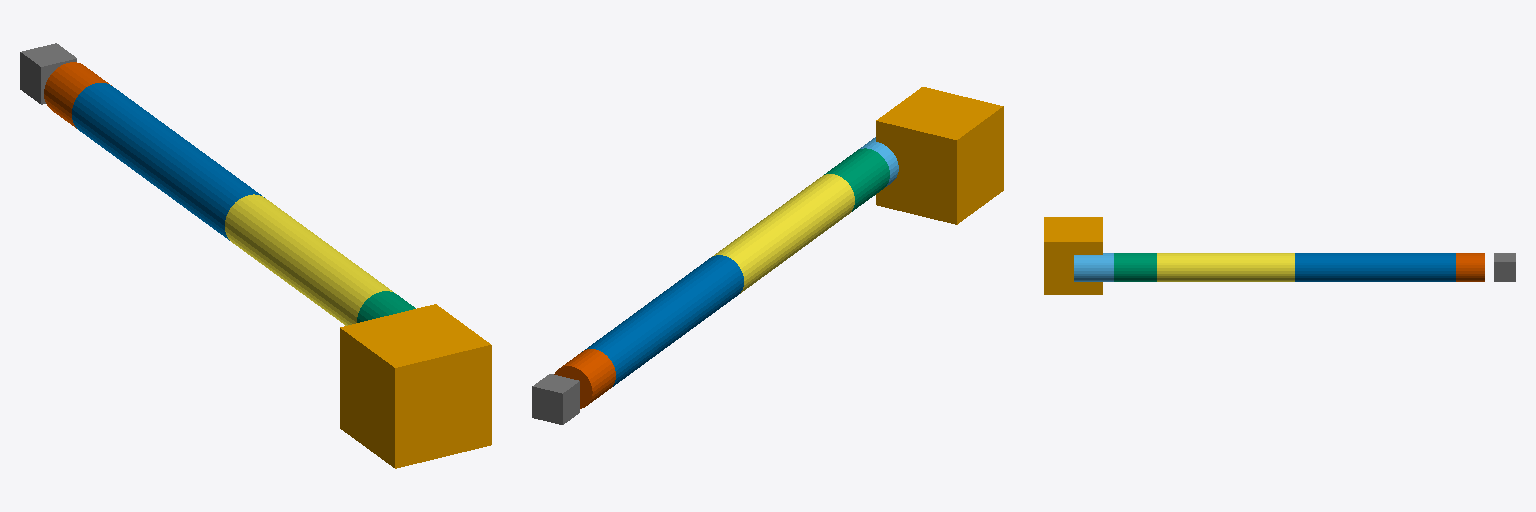
URDF robot description (robot_brazo):
<?xml version="1.0" encoding="utf-8"?>

<robot name="robot_brazo">
<!-->gazebo
    <plugin filename="libgazebo_ros_control.so" name="ros_control">
      <robotNamespace>/</robotNamespace>
      <robotSimType>gazebo_ros_control/DefaultRobotHWSim</robotSimType>
    </plugin>
    <plugin name="gazebo_ros_power_monitor_controller" filename="libgazebo_ros_power_monitor.so">
      <alwaysOn>true</alwaysOn>
      <updateRate>1.0</updateRate>
      <timeout>5</timeout>
      <powerStateTopic>power_state</powerStateTopic>
      <powerStateRate>10.0</powerStateRate>
      <fullChargeCapacity>87.78</fullChargeCapacity>     
      <dischargeRate>-474</dischargeRate>
      <chargeRate>525</chargeRate>
      <dischargeVoltage>15.52</dischargeVoltage>
      <chargeVoltage>16.41</chargeVoltage>
    </plugin>
  </gazebo-->

  <!-- measured from model -->
  <!--property name="shoulder_height" value="0.089159" /-->
  <!--property name="shoulder_offset" value="0.13585" /-->
  <!-- shoulder_offset - elbow_offset + wrist_1_length = 0.10915 -->
  <!--property name="upper_arm_length" value="0.42500" /-->
  <!--property name="elbow_offset" value="0.1197" /-->
  <!-- CAD measured -->
  <!--property name="forearm_length" value="0.39225" /-->
  <!--property name="wrist_1_length" value="0.093" /-->
  <!-- CAD measured -->
  <!--property name="wrist_2_length" value="0.09465" /-->
  <!-- In CAD this distance is 0.930, but in the spec it is 0.09465 -->
  <!--property name="wrist_3_length" value="0.0823" /-->
  <!-- manually measured -->
    <static> false </static>
    <link name="base_link">
        <visual>
        <geometry>
            <box size="0.8 0.8 0.8"/>
        </geometry>
        <origin rpy="0 -1.5708 -1.5708" xyz="0 0 0"/>
        </visual>
        <collision>
        <origin rpy="0 -1.5708 -1.5708" xyz="0 0 0" />
        <geometry>
            <box size="0.8 0.8 0.8"/>
        </geometry>
        </collision>
        <inertial>
         <mass value="1.05" />
         <inertia ixx="6.905" ixy="0.82" ixz="0.0" iyy="3.99" iyz="0.0" izz="6.58" />
        </inertial>
    </link>
    <gazebo reference="base_link">
        <material>Gazebo/Blue</material>
    </gazebo>

    <joint name="base-0_joint" type="revolute">
        <parent link="base_link"/>
        <child link="0_link"/>
        <origin rpy="0 -1.5708 0" xyz="0.375 0 0"/>
        <axis xyz="1 0 0" />
        <limit effort="300" velocity="0.1" lower="-1.4" upper="1.4"/>
        <dynamics damping="50" friction="1"/>
    </joint>

    <link name="0_link">
        <visual>
        <geometry>
            <cylinder length="0.55" radius="0.2"/>
        </geometry>
        <origin rpy="-1.5708 0 0" xyz="0 0.275 0"/>
        </visual>
        <collision>
        <geometry>
            <cylinder length="0.55" radius="0.2"/>
        </geometry>
        <origin rpy="-1.5708 0 0" xyz="0 0.275 0"/>
        </collision>
        <inertial>
         <mass value="1.05" />
         <inertia ixx="6.905" ixy="0.82" ixz="0.0" iyy="3.99" iyz="0.0" izz="6.58" />
        </inertial>
    </link>
    <gazebo reference="0_link">
        <material>Gazebo/Black</material>
    </gazebo>

    <joint name="0-1_joint" type="revolute">
        <parent link="0_link"/>
        <child link="1_link"/>
        <origin rpy="0 0 0" xyz="0 0.55 0" />
        <axis xyz="1 0 0" />
        <limit effort="300" velocity="0.1" lower="-1" upper="1"/>
        <dynamics damping="50" friction="1"/>
    </joint>

    <link name="1_link">
        <visual>
        <geometry>
            <cylinder length="0.6" radius="0.2"/>
        </geometry>
        <origin rpy="1.5708 0 0" xyz="0 0.3 0"/>
        
        </visual>
        <collision>
        <geometry>
            <cylinder length="0.6" radius="0.2"/>
        </geometry>
        <origin rpy="1.5708 0 0" xyz="0 0.3 0"/>
        </collision>
        <inertial>
         <mass value="1.553" />
         <inertia ixx="19.69" ixy="2.25" ixz="0.40" iyy="6.09" iyz="-1.97" izz="19.58" />
        </inertial>
    </link>
    <gazebo reference="1_link">
        <material>Gazebo/White</material>
    </gazebo>

    <joint name="1-2_joint" type="revolute">
        <parent link="1_link"/>
        <child link="2_link"/>
        <origin rpy="0 0 0" xyz="0 0.6 0"/>
        <axis xyz="1 0 0" />
        <limit effort="300" velocity="0.1" lower="-1.15" upper="1.15"/>
        <dynamics damping="50" friction="1"/>
    </joint>

    <link name="2_link">
        <visual>
        <geometry>
            <cylinder length="1.9" radius="0.2"/>
        </geometry>
        <origin rpy="1.5708 0 0" xyz="0 0.95 0"/>
        
        </visual>
        <collision>
        <geometry>
            <cylinder length="1.9" radius="0.2"/>
        </geometry>
        <origin rpy="1.5708 0 0" xyz="0 0.95 0"/>
        </collision>
        <inertial>
         <mass value="3.995" />
         <inertia ixx="89.92" ixy="61.25" ixz="10.30" iyy="71.41" iyz="-12.32" izz="141.58" />
        </inertial>
    </link>
    <gazebo reference="2_link">
        <material>Gazebo/Grey</material>
    </gazebo>


    <joint name="2-4_joint" type="revolute">
        <parent link="2_link"/>
        <child link="4_link"/>
        <origin rpy="0 0 0" xyz="0 1.9 0"/>
        <axis xyz="1 0 0" />
        <limit effort="300" velocity="0.1" lower="-1.1" upper="1.85"/>
        <dynamics damping="50" friction="1"/> 
    </joint>

    <link name="4_link">
        <visual>
        <geometry>
            <cylinder length="2.2" radius="0.2"/>
        </geometry>
        <origin rpy="1.5708 0 0" xyz="0 1.1 0"/>
        <material name="blue" />
        </visual>
        <collision>
        <geometry>
            <cylinder length="2.2" radius="0.2"/>
        </geometry>
        <origin rpy="1.5708 0 0" xyz="0 1.1 0"/>
        </collision>
        <inertial>
         <mass value="4.673" />
         <inertia ixx="196.77" ixy="18.68" ixz="4.70" iyy="33.48" iyz="-41.77" izz="188.74" />
        </inertial>
    </link>
    <gazebo reference="4_link">
        <material>Gazebo/White</material>
    </gazebo>

    <joint name="4-5_joint" type="revolute">
        <parent link="4_link"/>
        <child link="5_link"/>
        <origin rpy="0 0 0" xyz="0 2.2 0"/>
        <axis xyz="1 0 0" />
        <limit effort="300" velocity="0.1" lower="-0.85" upper="0.85"/>
        <dynamics damping="50" friction="1"/>
    </joint>

    <link name="5_link">
        <visual>
        <geometry>
            <cylinder length="0.4" radius="0.2"/>
        </geometry>
        <origin rpy="1.5708 0 0" xyz="0 0.2 0"/>
        
        </visual>
        <collision>
        <geometry>
            <cylinder length="0.4" radius="0.2"/>
        </geometry>
        <origin rpy="1.5708 0 0" xyz="0 0.2 0"/>
        </collision>
        <inertial>
         <mass value="0.875" />
         <inertia ixx="5.27" ixy="-22.62" ixz="-15.65" iyy="2.96" iyz="-0.448" izz="4.72" />
        </inertial>
    </link>
    <gazebo reference="5_link">
        <material>Gazebo/Black</material>
    </gazebo>

    <joint name="5-6_joint" type="revolute">
        <parent link="5_link"/>
        <child link="mesh_6_link"/>
        <origin rpy="0 0 0" xyz="0 0.4 0"/>
        <axis xyz="1 0 0" />
        <limit effort="300" velocity="0.1" lower="-0.85" upper="0.85"/>
        <dynamics damping="50" friction="1"/>
    </joint>
    

    <link name="mesh_6_link">
        <inertial>
            <origin rpy="0 0 0" xyz="0 0.275 0"/>
            <mass value="1.17563" />
            <inertia ixx="0.3615" ixy="0" ixz="-0.00681" iyy="0.4962" iyz="-0" izz="0.49" />
        </inertial>

        <visual>
            <origin rpy="0 0 0" xyz="0 0.275 0"/>
            <geometry>
                <box size="0.3 0.3 0.3"/>
                <mesh
                filename="package://lab2/manorobot/manoinv.stl" 
                scale= "2 2 2" />
            </geometry>
            <material name="clear_color">
                    <color rgba="0.5 0.5 0.5 1.0"/>
            </material>
        </visual>
        <collision>
            <origin rpy="0 0 0" xyz="0 0.275 0"/>
            <geometry>
                <box size="0.8 0.8 0.8"/>
                <!-->mesh filename="package://lab2/manorobot/manoinv.stl"
                scale= "2 2 2" /-->
            </geometry>
        </collision>
   </link>
   
       
    <!-- Transmissions-->
    <transmission name="tran1">
        <type>transmission_interface/SimpleTransmission</type>
        <joint name="base-0_joint">
        <hardwareInterface>hardware_interface/EffortJointInterface</hardwareInterface>
        </joint>
        <actuator name="motor1">
        <hardwareInterface>hardware_interface/EffortJointInterface</hardwareInterface>
        <mechanicalReduction>1</mechanicalReduction>
        </actuator>
    </transmission>

    <transmission name="tran2">
        <type>transmission_interface/SimpleTransmission</type>
        <joint name="0-1_joint">
        <hardwareInterface>hardware_interface/EffortJointInterface</hardwareInterface>
        </joint>
        <actuator name="motor2">
        <hardwareInterface>hardware_interface/EffortJointInterface</hardwareInterface>
        <mechanicalReduction>1</mechanicalReduction>
        </actuator>
    </transmission>

    <transmission name="tran3">
        <type>transmission_interface/SimpleTransmission</type>
        <joint name="1-2_joint">
        <hardwareInterface>hardware_interface/EffortJointInterface</hardwareInterface>
        </joint>
        <actuator name="motor3">
        <hardwareInterface>hardware_interface/EffortJointInterface</hardwareInterface>
        <mechanicalReduction>1</mechanicalReduction>
        </actuator>
    </transmission>

    <transmission name="tran4">
        <type>transmission_interface/SimpleTransmission</type>
        <joint name="2-4_joint">
        <hardwareInterface>hardware_interface/EffortJointInterface</hardwareInterface>
        </joint>
        <actuator name="motor4">
        <hardwareInterface>hardware_interface/EffortJointInterface</hardwareInterface>
        <mechanicalReduction>1</mechanicalReduction>
        </actuator>
    </transmission>

    <transmission name="tran5">
        <type>transmission_interface/SimpleTransmission</type>
        <joint name="4-5_joint">
        <hardwareInterface>hardware_interface/EffortJointInterface</hardwareInterface>
        </joint>
        <actuator name="motor5">
        <hardwareInterface>hardware_interface/EffortJointInterface</hardwareInterface>
        <mechanicalReduction>1</mechanicalReduction>
        </actuator>
    </transmission>

    <transmission name="tran6">
        <type>transmission_interface/SimpleTransmission</type>
        <joint name="5-6_joint">
        <hardwareInterface>hardware_interface/EffortJointInterface</hardwareInterface>
        </joint>
        <actuator name="motor6">
        <hardwareInterface>hardware_interface/EffortJointInterface</hardwareInterface>
        <mechanicalReduction>1</mechanicalReduction>
        </actuator>
    </transmission>
    
    <gazebo reference="base-0_joint">
        <selfCollide>true</selfCollide>
    </gazebo>
    <gazebo reference="0-1_joint">
        <selfCollide>true</selfCollide>
    </gazebo>
    <gazebo reference="1-2_joint">
        <selfCollide>true</selfCollide>
    </gazebo>
    <gazebo reference="2-4_joint">
        <selfCollide>true</selfCollide>
    </gazebo>
    <gazebo reference="4-5_joint">
        <selfCollide>true</selfCollide>
    </gazebo>
    <gazebo reference="5-6_joint">
        <selfCollide>true</selfCollide>
    </gazebo>
    
        <!-- ROS base_link to UR 'Base' Coordinates transform -->
    <link name="base1"/>
    <joint name="base_link-base_fixed_joint" type="fixed">
        <!-- NOTE: this rotation is only needed as long as base_link itself is
                    not corrected wrt the real robot (ie: rotated over 180
                    degrees)
        -->
        <origin rpy="0 0 1.5708" xyz="0 0 0"/>
        <parent link="base_link"/>
        <child link="base1"/>
    </joint>
    
    <!-- <link name="world"/> -->
    <link name="world">
        <inertial>
        <mass value="0.0000001"/>
        <origin rpy="0 0 0" xyz="0.0 0.0 0.0"/>
        <inertia ixx="0.0000001" ixy="0.0" ixz="0.0" iyy="0.0000001" iyz="0.0" izz="0.0000001"/>
        </inertial>
    </link>
        
    <joint name="world_joint" type="fixed">
        <parent link="world"/>
        <child link="base_link"/>
        <origin rpy="0.0 0.0 0.0" xyz="0.0 0.0 0.0"/>
    </joint>


</robot>

--- Render facts (derived) ---
3 views of the same robot in one strip: view 1: azimuth 30°, elevation 25°; view 2: azimuth 150°, elevation 25°; view 3: azimuth 270°, elevation 25° (orthographic).
Robot: robot_brazo — 9 links, 8 joints (6 revolute, 2 fixed); root link world; default pose: every joint at zero.
Links seen in each view (by area): view 1: base_link, 4_link, 2_link, 5_link, mesh_6_link, 1_link; view 2: base_link, 4_link, 2_link, mesh_6_link, 1_link, 5_link, 0_link; view 3: 4_link, 2_link, base_link, 1_link, 0_link, 5_link, mesh_6_link.
Boxes of the visible links, box(x1,y1,x2,y2) form: base_link: box(340, 304, 491, 468); 4_link: box(72, 83, 264, 240); 2_link: box(225, 194, 395, 325); 5_link: box(44, 62, 111, 128); mesh_6_link: box(20, 43, 76, 104); 1_link: box(357, 291, 415, 322); base_link: box(876, 87, 1003, 224); 4_link: box(582, 255, 743, 386); 2_link: box(712, 174, 854, 293); mesh_6_link: box(532, 374, 579, 424); 1_link: box(824, 148, 889, 211); 5_link: box(554, 349, 615, 408); 0_link: box(858, 137, 898, 186); 4_link: box(1295, 253, 1455, 281); 2_link: box(1157, 253, 1294, 281); base_link: box(1044, 217, 1102, 294); 1_link: box(1114, 253, 1156, 281); 0_link: box(1074, 253, 1113, 281); 5_link: box(1456, 253, 1484, 281); mesh_6_link: box(1494, 253, 1515, 281).
Bounding box of the posed robot: 0.975 × 6.47 × 0.8 m (x, y, z).
Geometry: primitives only (box / cylinder / sphere), no mesh files.